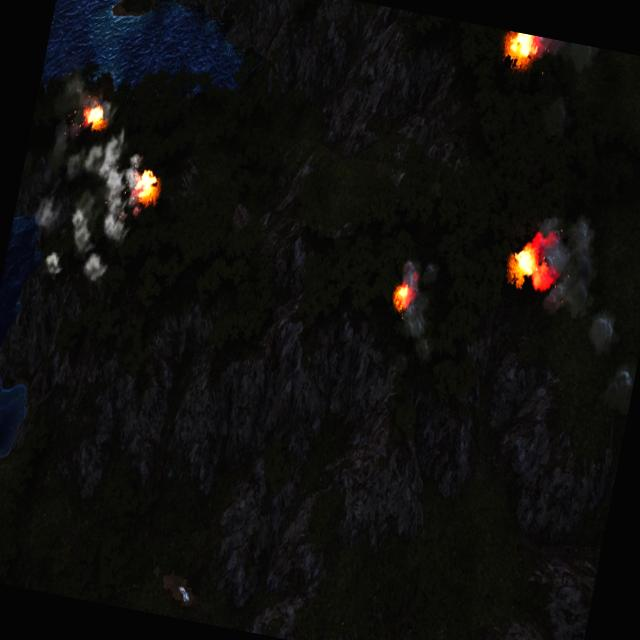fire: (509, 238, 554, 292), (133, 168, 162, 208), (504, 31, 537, 66), (84, 102, 109, 130), (391, 282, 412, 312)
smoke: (22, 115, 149, 291), (516, 207, 639, 361), (387, 258, 449, 366), (526, 35, 606, 77), (604, 362, 637, 412)
